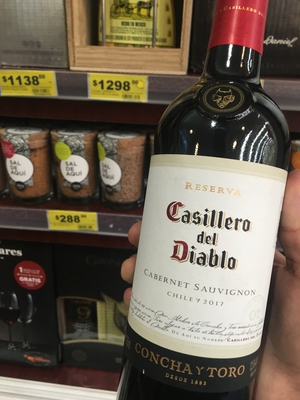casillero del diablo cabernet sauvignon: (123, 15, 288, 400)
